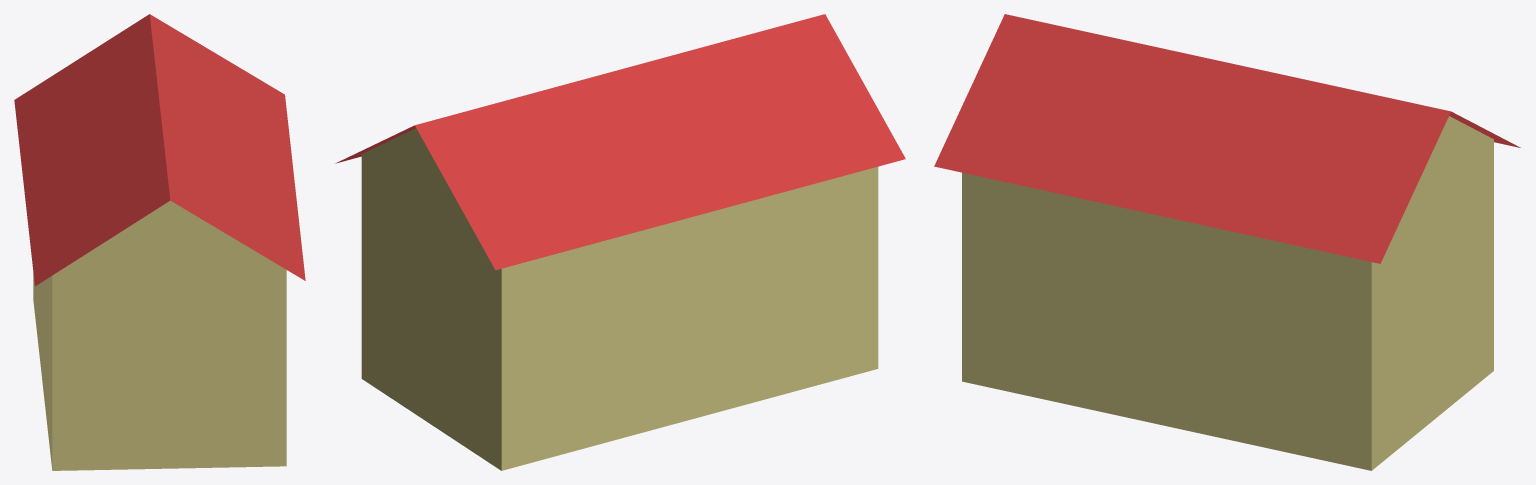
The picture shows the model from 3 angles, left to right: view 1: azimuth 30°, elevation 25°; view 2: azimuth 150°, elevation 25°; view 3: azimuth 270°, elevation 25°; orthographic projection. The views are drawn at different scales.
Bounding box in the file's own units: 12.2 × 14.22 × 8.37.
